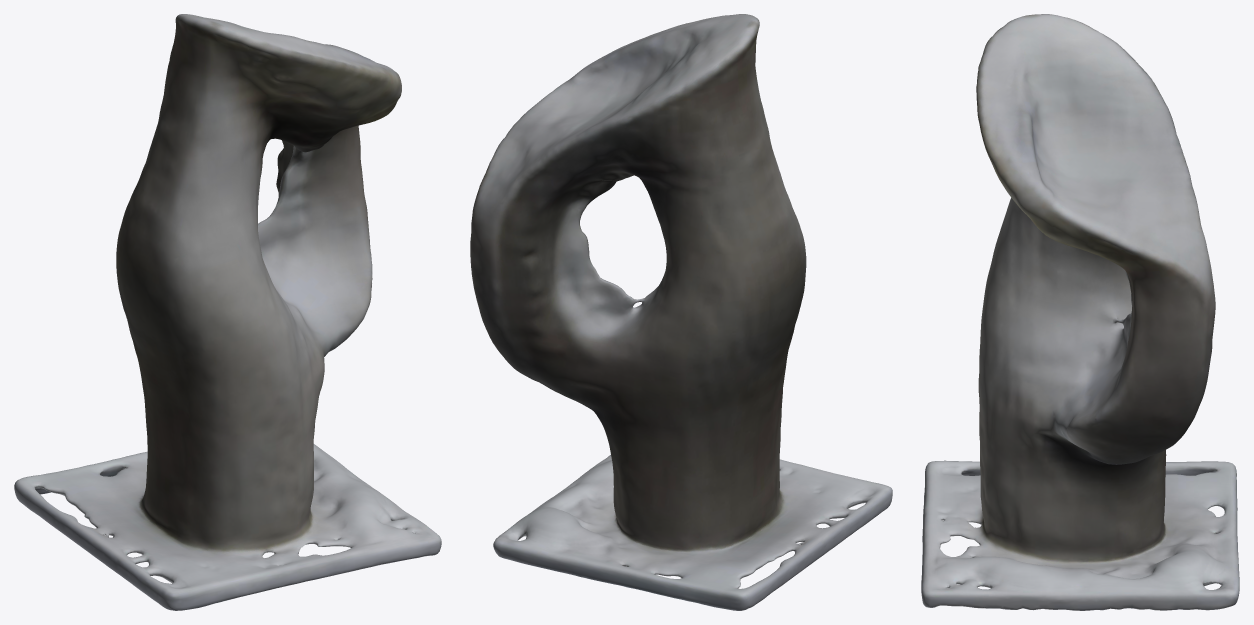
Rendered from 81a0a904d69d_sculpture__3d_asset.fbx.
The picture shows the model from 3 angles, left to right: view 1: azimuth 30°, elevation 25°; view 2: azimuth 150°, elevation 25°; view 3: azimuth 270°, elevation 25°; orthographic projection. The views are drawn at different scales.
Parts seen in each view (by area): view 1: high_poly; view 2: high_poly; view 3: high_poly.
Boxes of the visible parts, <box> form: high_poly: <box>14,14,441,610</box>; high_poly: <box>470,14,892,610</box>; high_poly: <box>921,14,1239,610</box>.
Size of the model in its own units: 61.78 by 100 by 56.05.
